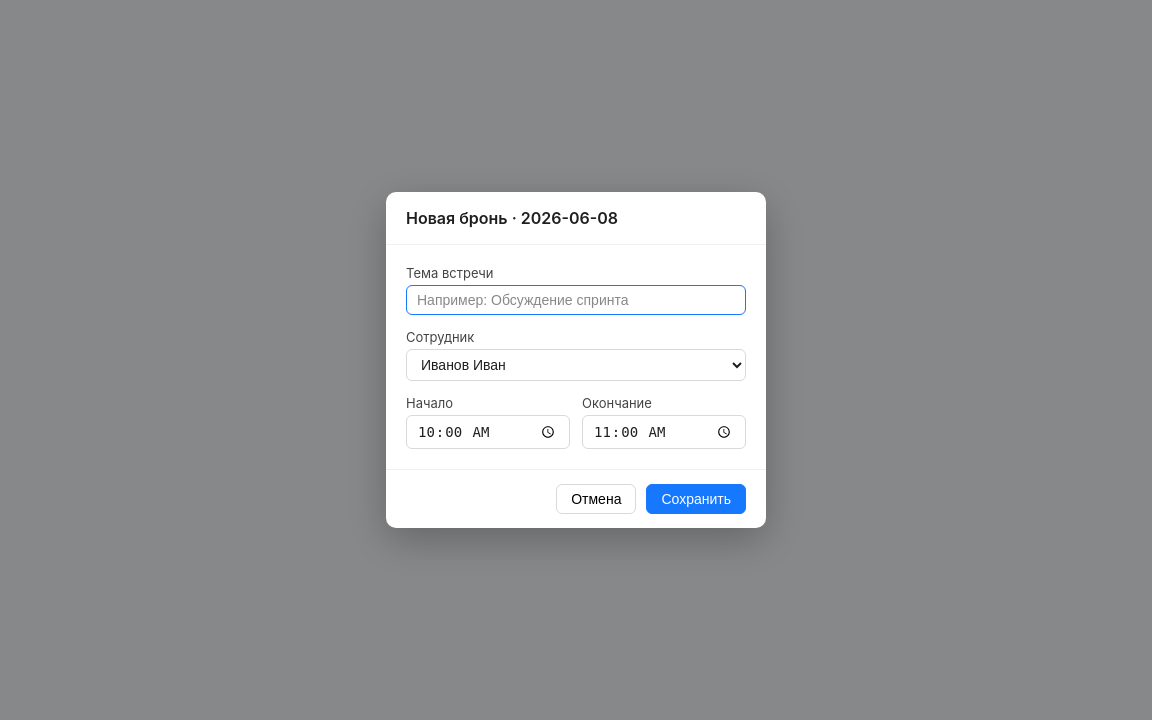
Test: BookingModal › не отправляет бронь без темы и показывает ошибку
Click the button "Сохранить" at (696, 499), box top-left (646, 484), bottom-right (746, 514)
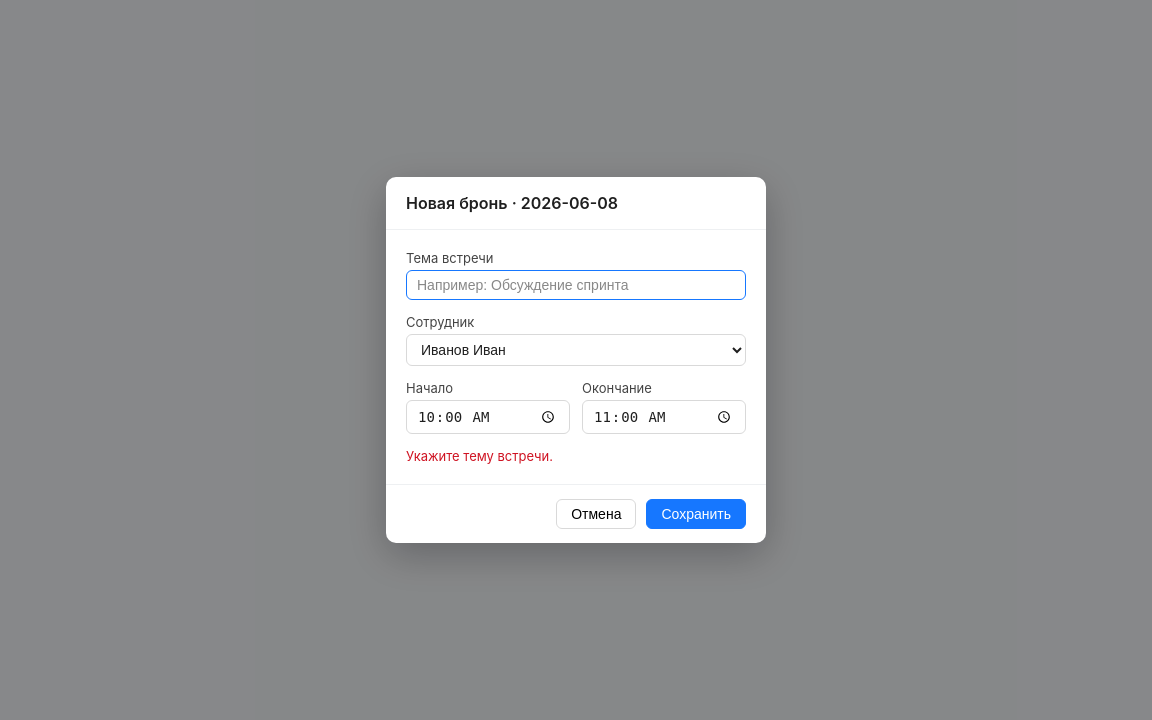
Expected: the text "Укажите тему встречи." is shown, top-left (406, 448), bottom-right (553, 464)
